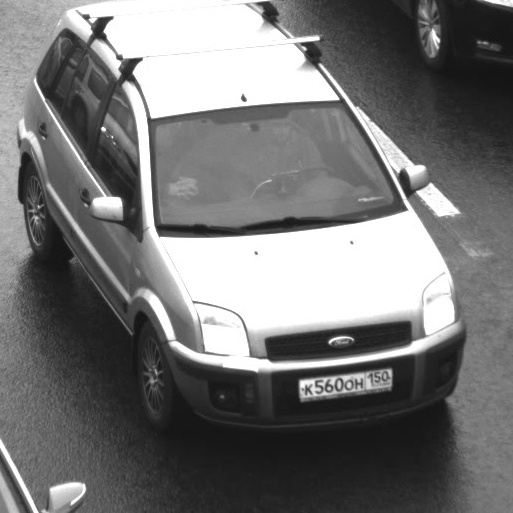plate: (286, 355, 401, 408)
